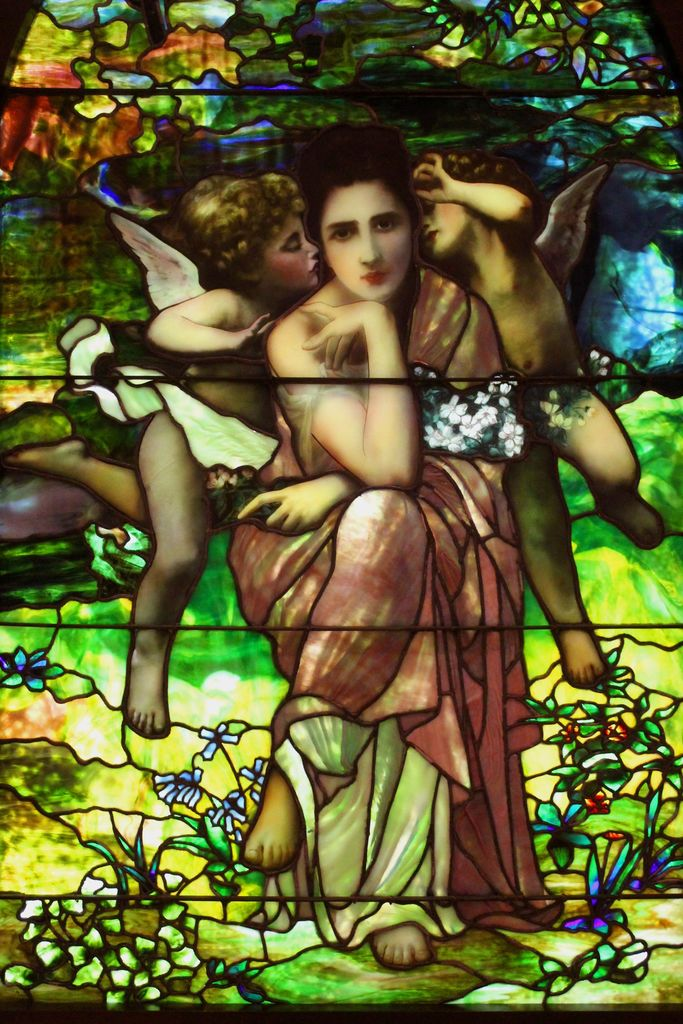Person: (0, 169, 323, 737), (422, 144, 663, 685)
